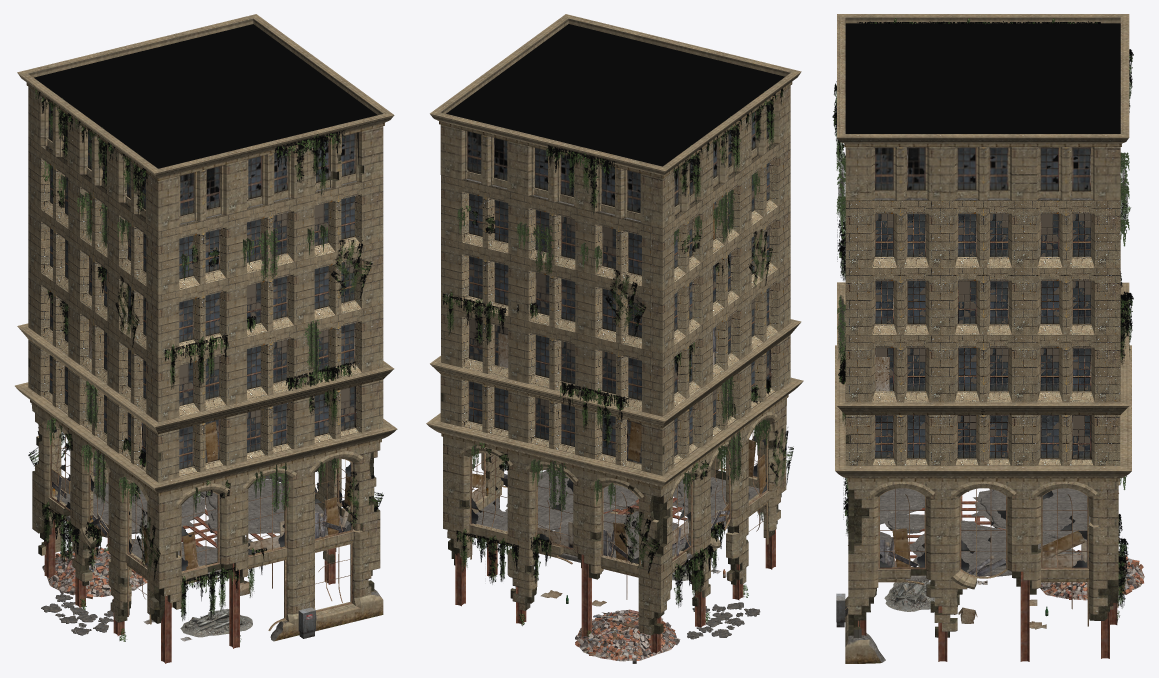
3 views of the same model, side by side, from view 1: azimuth 30°, elevation 25°; view 2: azimuth 150°, elevation 25°; view 3: azimuth 270°, elevation 25° (orthographic). The views are drawn at different scales.
Parts seen in each view (by area): view 1: 5floor21, 0floor11, Polysurface10211, Polysurface10201, Polysurface10221, Polysurface10231, 0floor1, Polysurface62111, Polysurface3091, Polysurface526, Polysurface504, Polysurface503 (+10 smaller); view 2: 5floor21, 0floor11, Polysurface10211, Polysurface10201, Polysurface10221, Polysurface10231, 0floor1, Polysurface62111, Polysurface3091, Polysurface524, Polysurface528, Polysurface506 (+9 smaller); view 3: 5floor21, 0floor11, Polysurface10231, Polysurface10221, Polysurface10201, Polysurface10211, 0floor1, Polysurface62111, Polysurface3091, Meshpart1, Polysurface506.
Boxes of the visible parts, <box> form: 5floor21: <box>17,14,394,231</box>; 0floor11: <box>30,400,383,641</box>; Polysurface10211: <box>28,200,383,358</box>; Polysurface10201: <box>28,137,383,295</box>; Polysurface10221: <box>28,264,383,422</box>; Polysurface10231: <box>17,323,394,482</box>; 0floor1: <box>15,382,397,663</box>; Polysurface62111: <box>55,475,349,577</box>; Polysurface3091: <box>42,546,147,598</box>; Polysurface526: <box>274,130,344,195</box>; Polysurface504: <box>164,334,229,389</box>; Polysurface503: <box>180,567,240,621</box>; 5floor21: <box>430,14,801,228</box>; 0floor11: <box>441,395,788,635</box>; Polysurface10211: <box>441,198,790,353</box>; Polysurface10201: <box>441,135,790,291</box>; Polysurface10221: <box>441,260,790,416</box>; Polysurface10231: <box>430,319,801,475</box>; 0floor1: <box>426,377,803,653</box>; Polysurface62111: <box>476,469,759,563</box>; Polysurface3091: <box>575,609,680,663</box>; Polysurface524: <box>546,145,616,214</box>; Polysurface528: <box>560,382,629,451</box>; Polysurface506: <box>456,528,520,584</box>; 5floor21: <box>837,14,1129,200</box>; 0floor11: <box>845,478,1119,663</box>; Polysurface10231: <box>836,282,1129,465</box>; Polysurface10221: <box>845,335,1120,402</box>; Polysurface10201: <box>845,200,1120,267</box>; Polysurface10211: <box>845,268,1120,335</box>; 0floor1: <box>835,345,1131,661</box>; Polysurface62111: <box>880,488,1090,581</box>; Polysurface3091: <box>1040,549,1144,600</box>; Meshpart1: <box>884,581,934,611</box>; Polysurface506: <box>1117,538,1128,608</box>.
Size of the model in its own units: 56.5 by 104 by 55.28.
12 materials, 12 textured.
